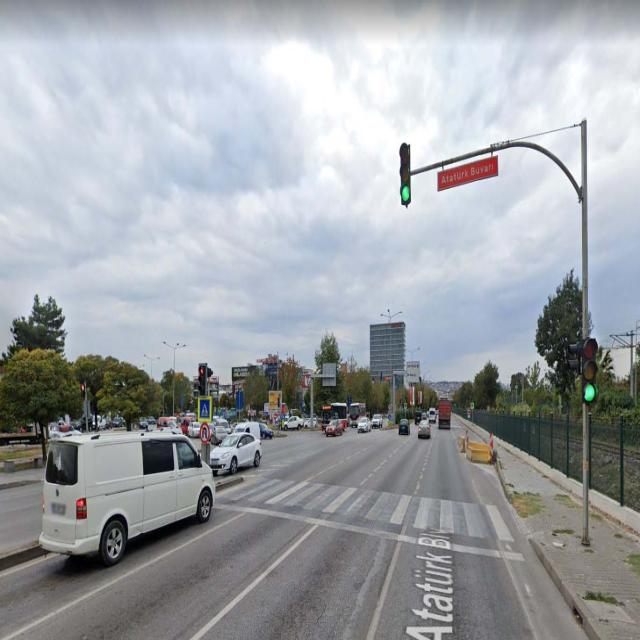kirmizi: (198, 364, 206, 396)
yesil: (583, 339, 597, 404), (400, 143, 412, 206)
